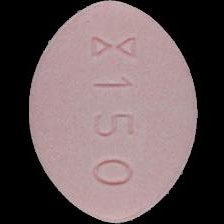68788-9926: (0, 0, 224, 224)
